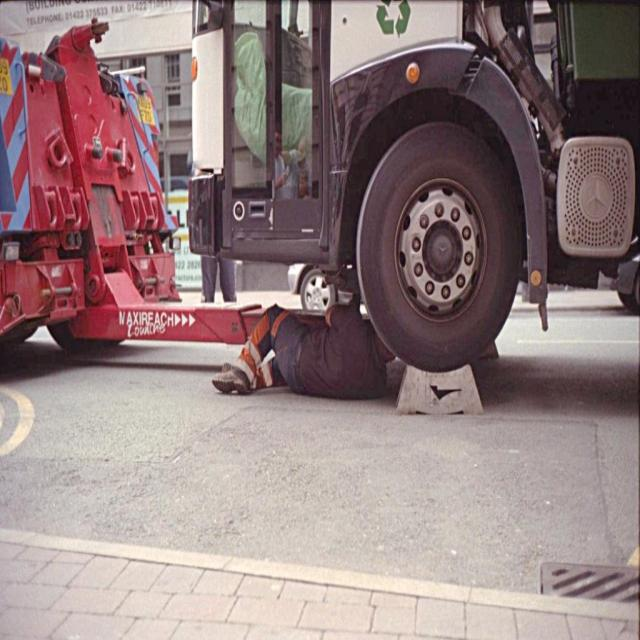Heavy Duty Truck: (178, 3, 640, 373)
